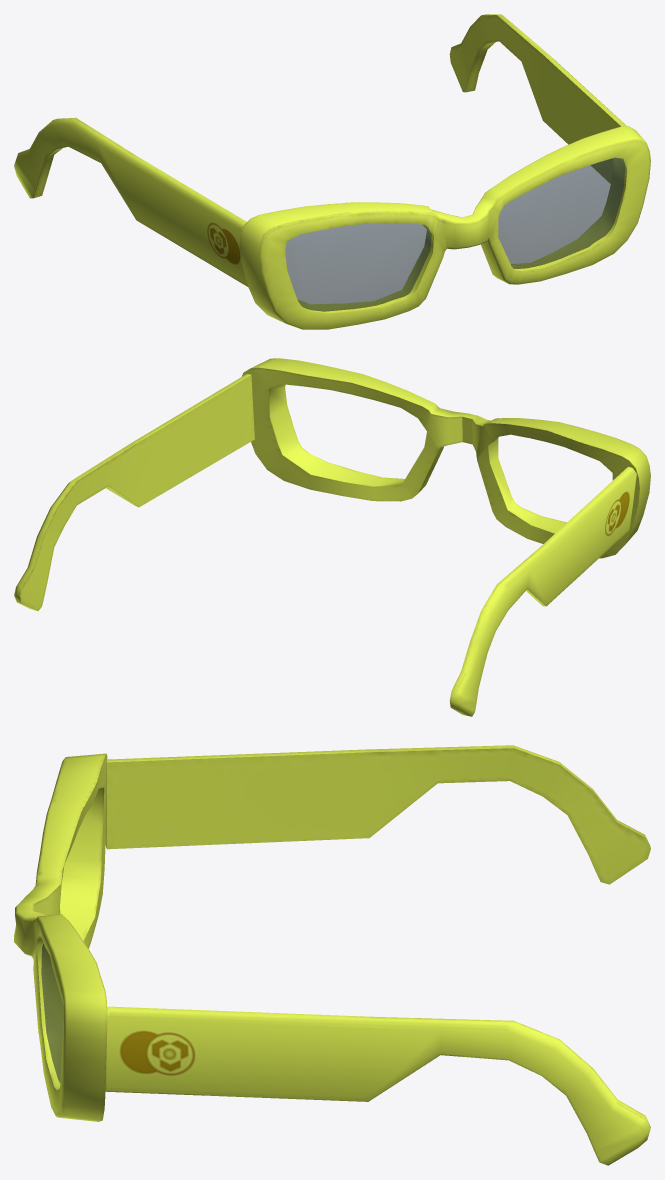
3 renders of one model, top to bottom at view 1: azimuth 30°, elevation 25°; view 2: azimuth 150°, elevation 25°; view 3: azimuth 270°, elevation 25°, orthographic. The views are drawn at different scales.
Visible parts, largest first — view 1: Wolf3D_Glasses; view 2: Wolf3D_Glasses; view 3: Wolf3D_Glasses.
Part boxes in pixels (<box>): Wolf3D_Glasses: <box>14,14,650,329</box>; Wolf3D_Glasses: <box>14,358,650,716</box>; Wolf3D_Glasses: <box>14,745,650,1165</box>.
Size of the model in its own units: 0.1655 by 0.0411 by 0.154.
Materials: 1 (1 with a texture image).
